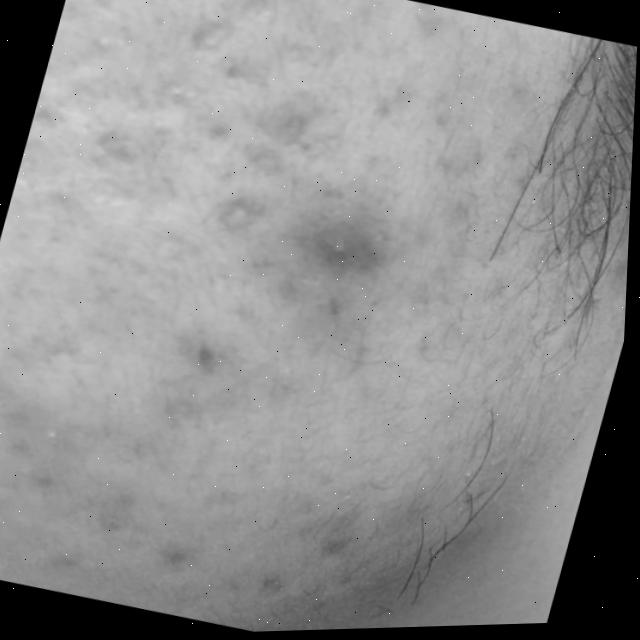Acne: (0, 28, 527, 623)
